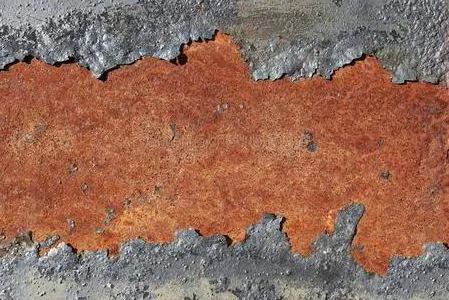Corrosion: (1, 28, 449, 278)
